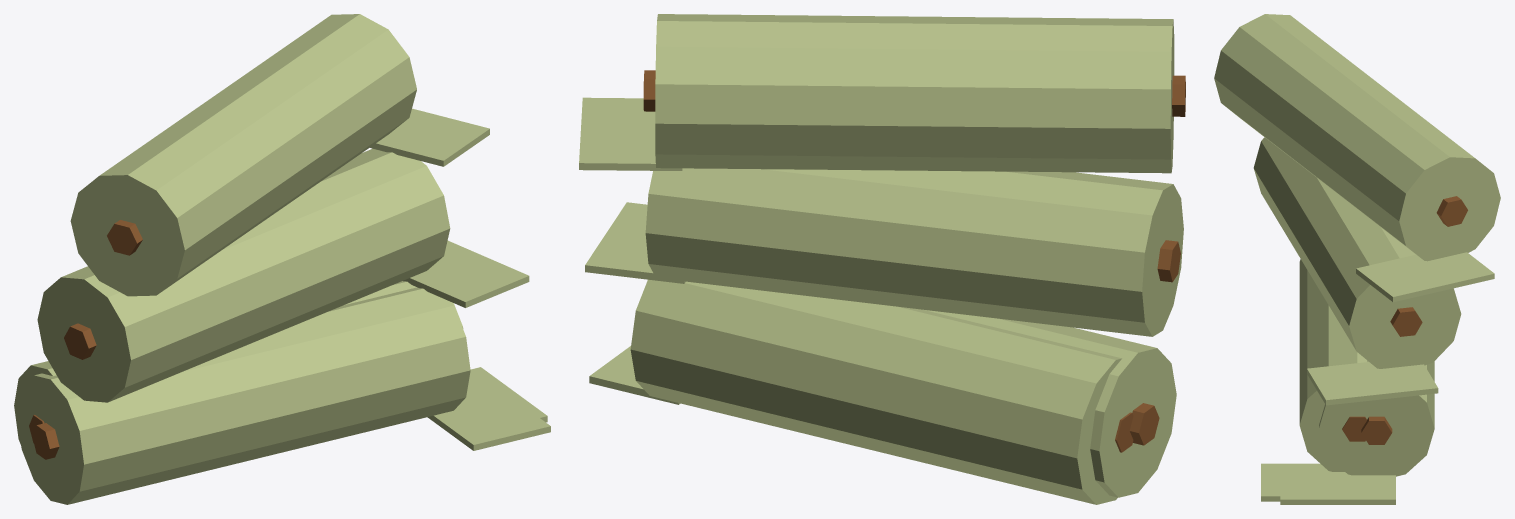
Rendered from Cloth_Plant.fbx.
The picture shows the model from 3 angles, left to right: view 1: azimuth 30°, elevation 25°; view 2: azimuth 150°, elevation 25°; view 3: azimuth 270°, elevation 25°; orthographic projection. The views are drawn at different scales.
Visible parts, largest first — view 1: Cloth_Plant__Stack, Cloth_Plant; view 2: Cloth_Plant__Stack, Cloth_Plant; view 3: Cloth_Plant__Stack, Cloth_Plant.
Boxes of the visible parts, left/top/right/bottom form: Cloth_Plant__Stack: left=17, top=14, right=550, bottom=504; Cloth_Plant: left=14, top=281, right=547, bottom=444; Cloth_Plant__Stack: left=579, top=14, right=1185, bottom=497; Cloth_Plant: left=589, top=279, right=1133, bottom=504; Cloth_Plant__Stack: left=1214, top=14, right=1500, bottom=501; Cloth_Plant: left=1280, top=360, right=1434, bottom=504.
Bounding box in the file's own units: 0.2433 × 0.1776 × 0.1485.
